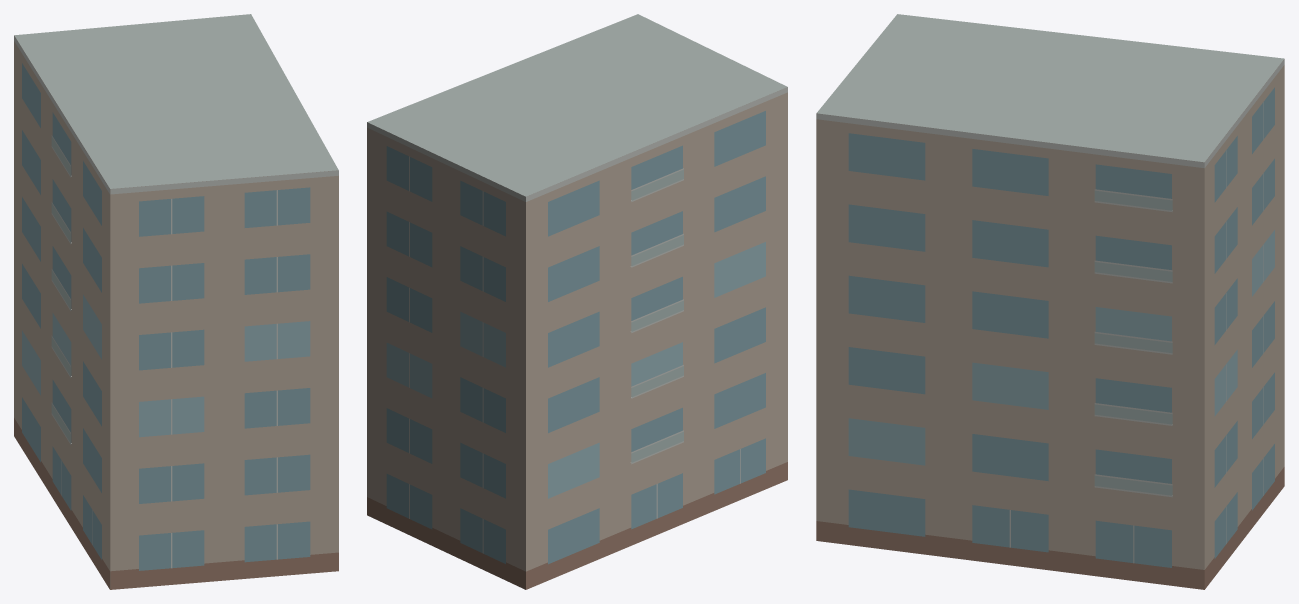
File: survey-upis-32948613.glb
The picture shows the model from 3 angles, left to right: view 1: azimuth 30°, elevation 25°; view 2: azimuth 150°, elevation 25°; view 3: azimuth 270°, elevation 25°; orthographic projection. The views are drawn at different scales.
Parts seen in each view (by area): view 1: survey-upis-32948613.tmp; view 2: survey-upis-32948613.tmp; view 3: survey-upis-32948613.tmp.
Boxes of the visible parts, left/top/right/bottom form: survey-upis-32948613.tmp: left=14, top=14, right=338, bottom=589; survey-upis-32948613.tmp: left=367, top=14, right=787, bottom=589; survey-upis-32948613.tmp: left=816, top=14, right=1284, bottom=589.
Size of the model in its own units: 13.18 by 17.7 by 17.58.
